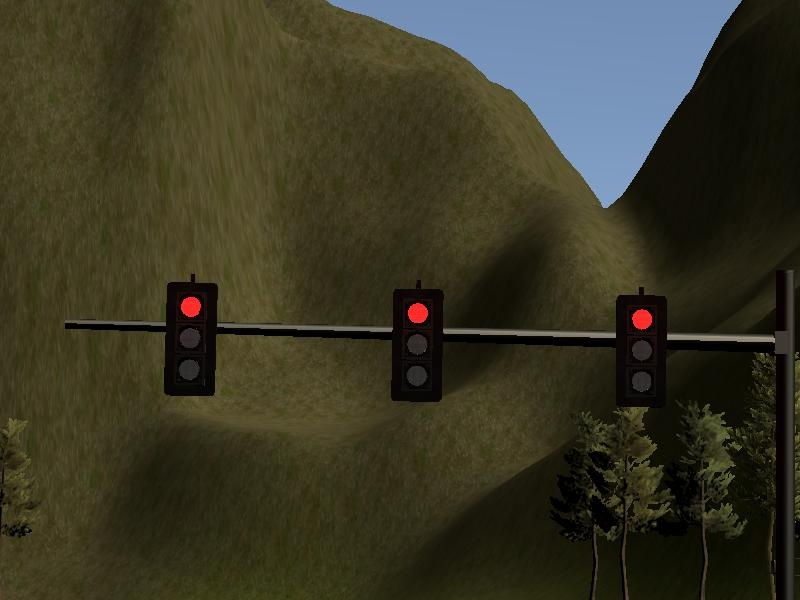red: (387, 288, 445, 402), (614, 294, 665, 405), (165, 282, 214, 395)
